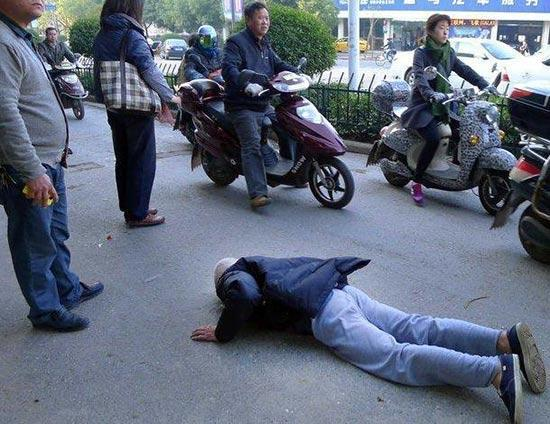Fall-Detected: (179, 243, 548, 414)
